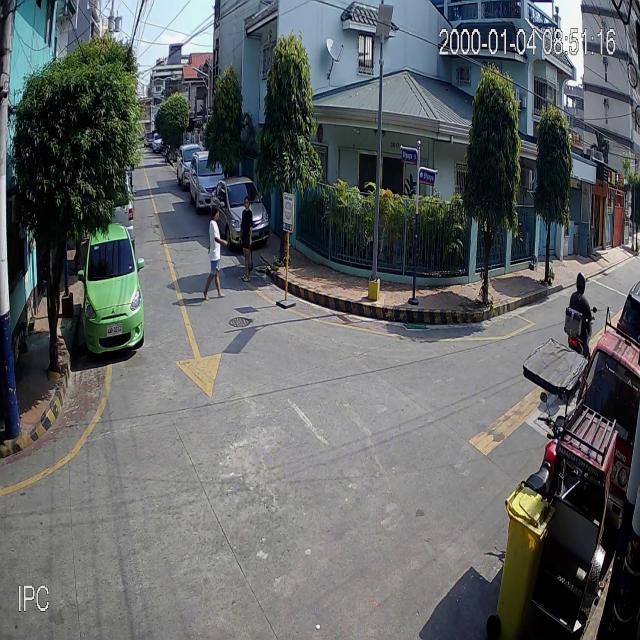standing: (238, 195, 254, 282)
walking: (203, 205, 229, 301)
